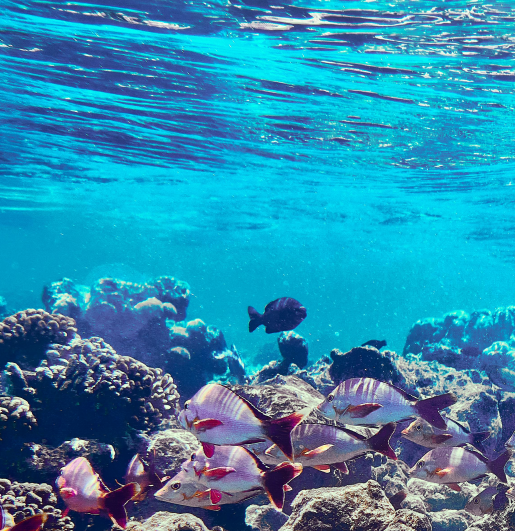fishRound: (247, 296, 307, 336)
fishSmall: (178, 382, 311, 463), (184, 441, 293, 512), (265, 421, 399, 475), (316, 381, 457, 429), (55, 457, 142, 530), (154, 473, 291, 511), (405, 443, 511, 489), (400, 415, 494, 454), (126, 450, 167, 497), (463, 483, 515, 519)
